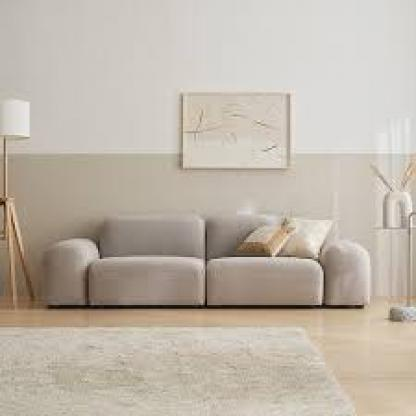sofa: (43, 209, 377, 325)
